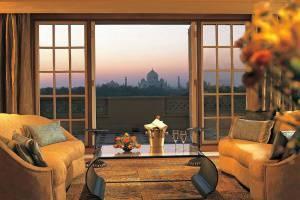window: (32, 15, 265, 150)
